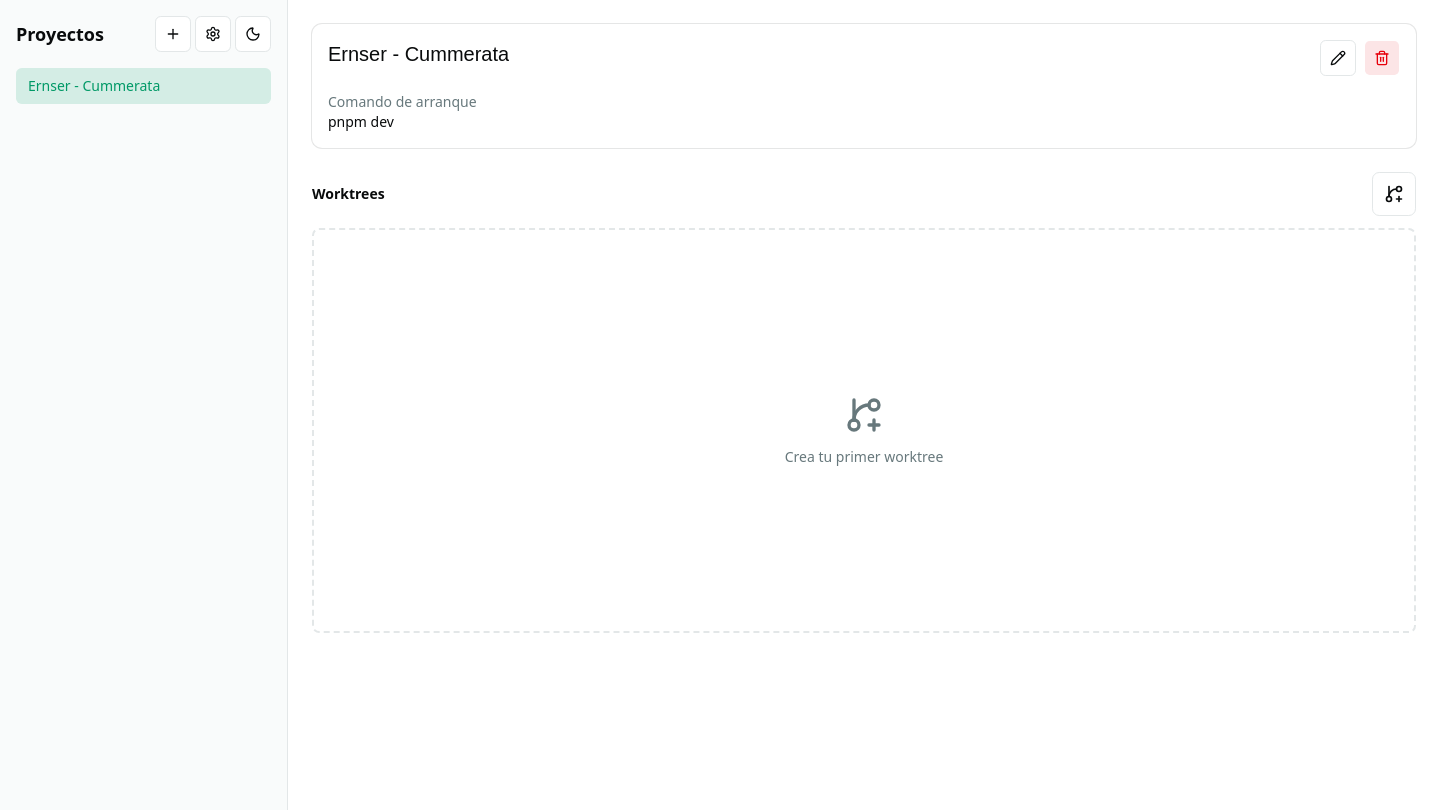
app routes › should update the project name when the edit form is submitted
The image size is (1440, 810).
Click the button named "Editar proyecto" at (1338, 58), box [1320,40,1356,76]
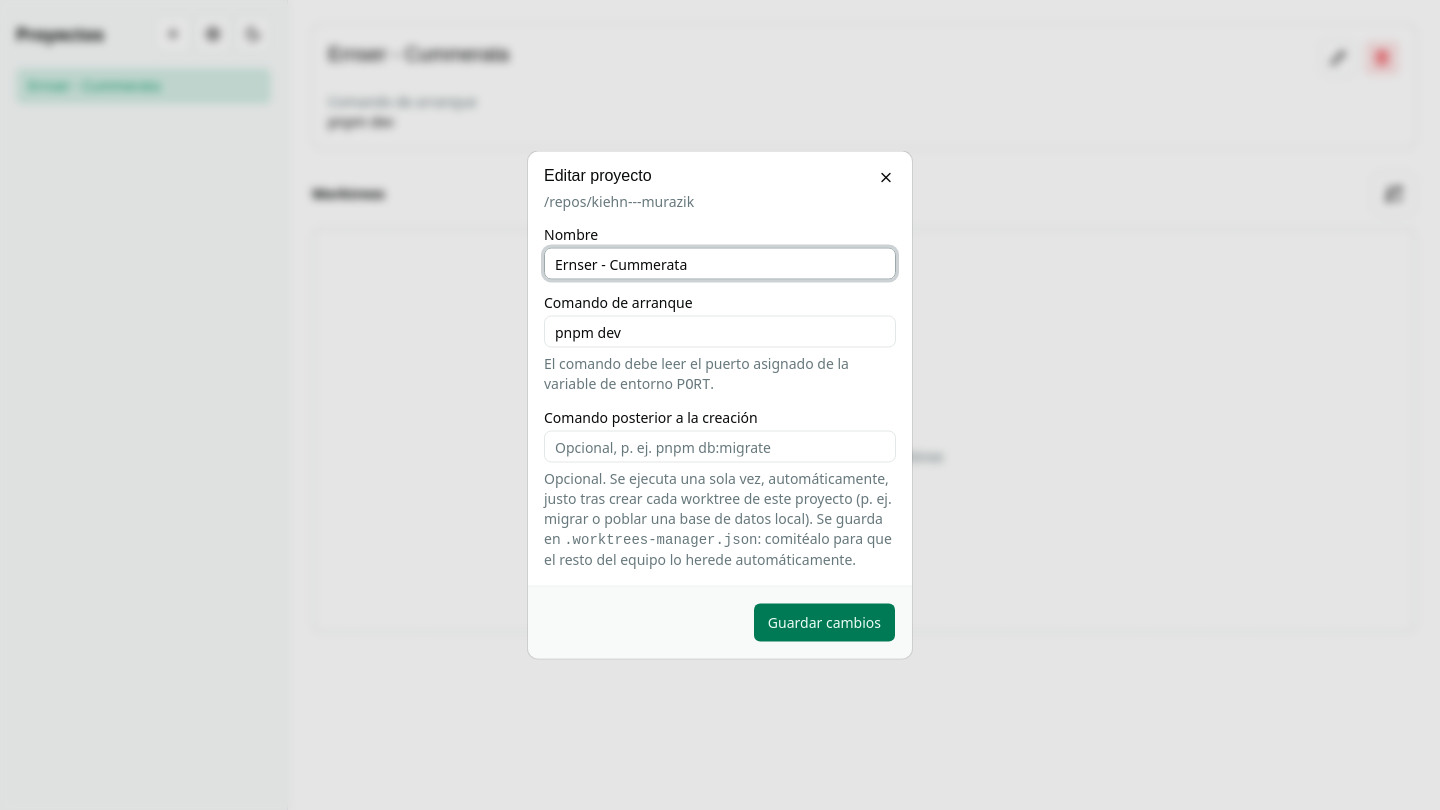
Replace the text in the field labelled "Nombre" with "renamed-project" at (720, 264), box [544,248,896,280]
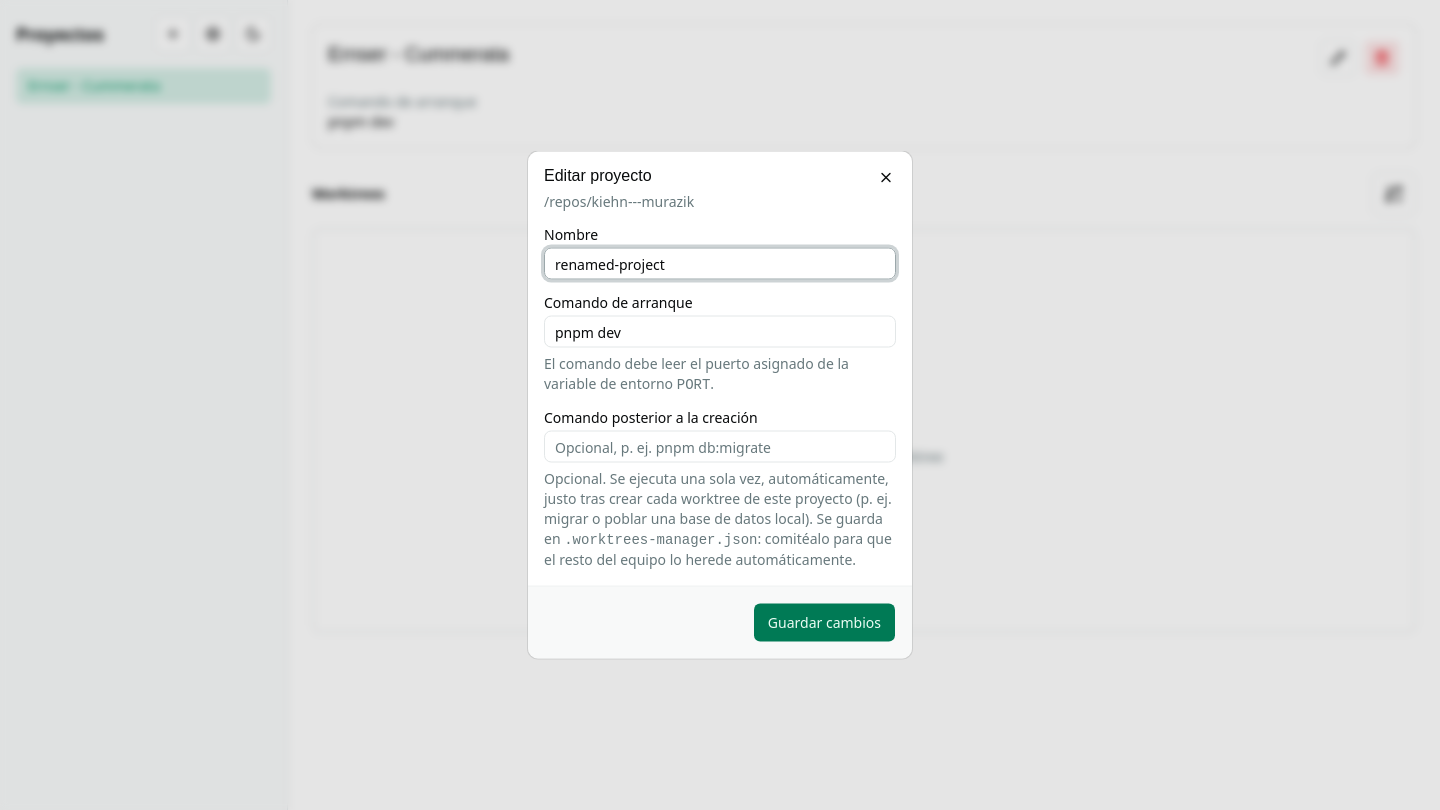
Click the button "Guardar cambios" at (824, 622), box [753,602,896,642]
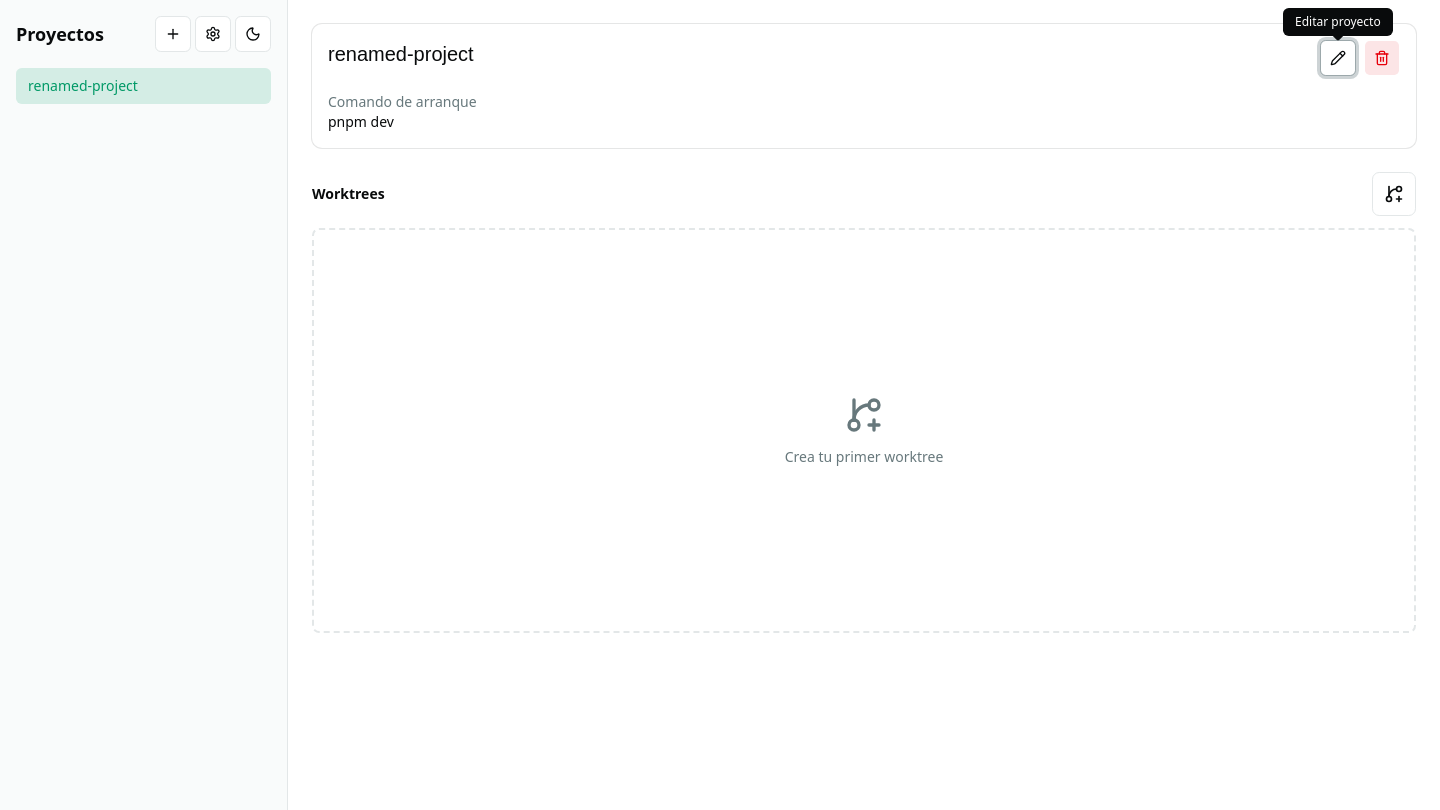
Check: the heading "renamed-project" is shown, box [328,40,474,68]
